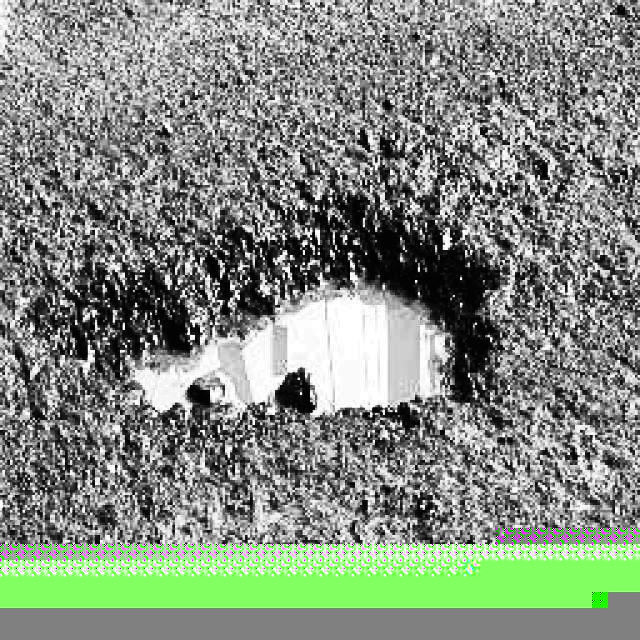Pothole: (37, 185, 526, 448)
